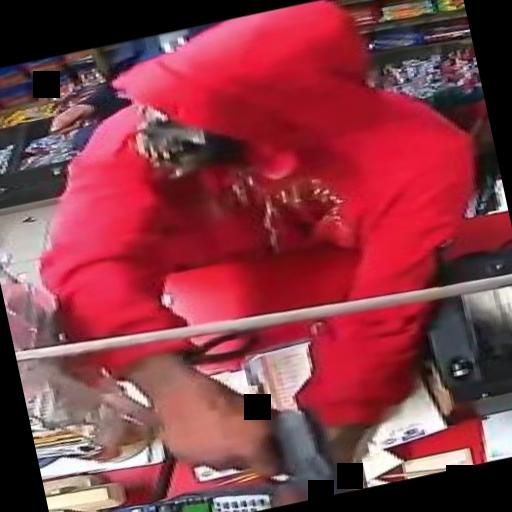Handgun: (160, 398, 345, 512)
